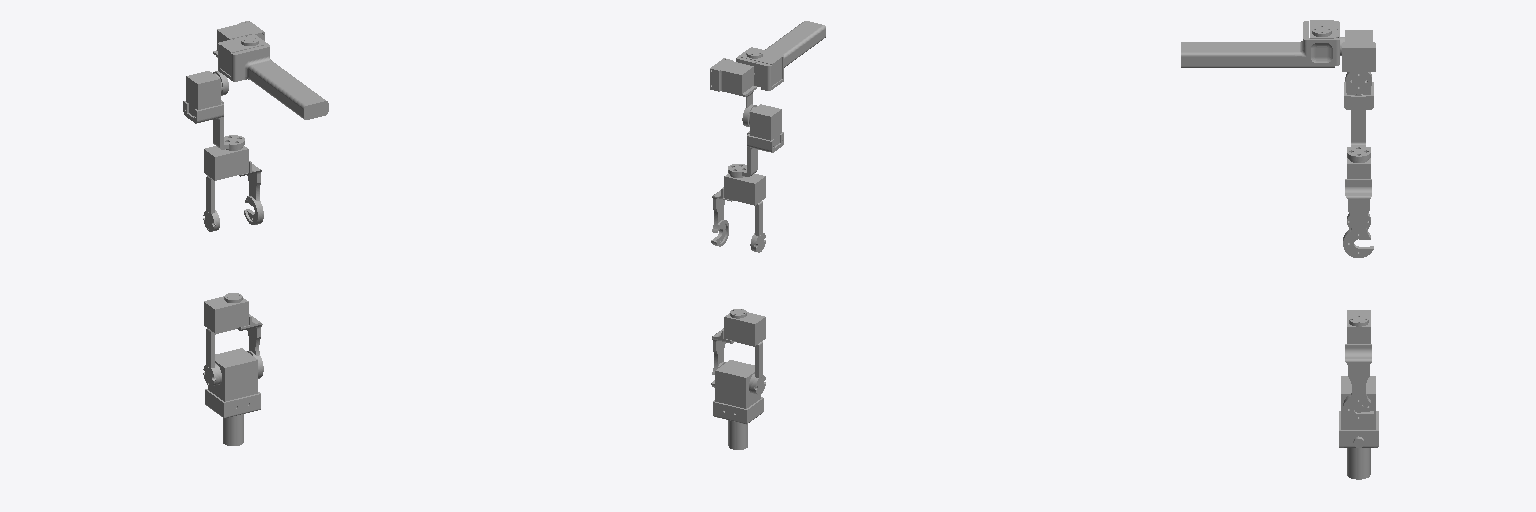
robot.urdf — FlexivRizonURDF_V2:
<?xml version="1.0" ?>
<robot xmlns:xacro="http://www.ros.org/wiki/xacro" name="FlexivRizonURDF_V2">
  <material name="silver">
    <color rgba="0.700 0.700 0.700 1.000"/>
  </material>
  <transmission name="base_to_one_tran">
    <type>transmission_interface/SimpleTransmission</type>
    <joint name="base_to_one">
      <hardwareInterface>hardware_interface/EffortJointInterface</hardwareInterface>
    </joint>
    <actuator name="base_to_one_actr">
      <hardwareInterface>hardware_interface/EffortJointInterface</hardwareInterface>
      <mechanicalReduction>1</mechanicalReduction>
    </actuator>
  </transmission>
  <transmission name="one_to_two_tran">
    <type>transmission_interface/SimpleTransmission</type>
    <joint name="one_to_two">
      <hardwareInterface>hardware_interface/EffortJointInterface</hardwareInterface>
    </joint>
    <actuator name="one_to_two_actr">
      <hardwareInterface>hardware_interface/EffortJointInterface</hardwareInterface>
      <mechanicalReduction>1</mechanicalReduction>
    </actuator>
  </transmission>
  <transmission name="two_to_three_tran">
    <type>transmission_interface/SimpleTransmission</type>
    <joint name="two_to_three">
      <hardwareInterface>hardware_interface/EffortJointInterface</hardwareInterface>
    </joint>
    <actuator name="two_to_three_actr">
      <hardwareInterface>hardware_interface/EffortJointInterface</hardwareInterface>
      <mechanicalReduction>1</mechanicalReduction>
    </actuator>
  </transmission>
  <transmission name="three_to_four_tran">
    <type>transmission_interface/SimpleTransmission</type>
    <joint name="three_to_four">
      <hardwareInterface>hardware_interface/EffortJointInterface</hardwareInterface>
    </joint>
    <actuator name="three_to_four_actr">
      <hardwareInterface>hardware_interface/EffortJointInterface</hardwareInterface>
      <mechanicalReduction>1</mechanicalReduction>
    </actuator>
  </transmission>
  <transmission name="four_to_five_tran">
    <type>transmission_interface/SimpleTransmission</type>
    <joint name="four_to_five">
      <hardwareInterface>hardware_interface/EffortJointInterface</hardwareInterface>
    </joint>
    <actuator name="four_to_five_actr">
      <hardwareInterface>hardware_interface/EffortJointInterface</hardwareInterface>
      <mechanicalReduction>1</mechanicalReduction>
    </actuator>
  </transmission>
  <transmission name="five_to_six_tran">
    <type>transmission_interface/SimpleTransmission</type>
    <joint name="five_to_six">
      <hardwareInterface>hardware_interface/EffortJointInterface</hardwareInterface>
    </joint>
    <actuator name="five_to_six_actr">
      <hardwareInterface>hardware_interface/EffortJointInterface</hardwareInterface>
      <mechanicalReduction>1</mechanicalReduction>
    </actuator>
  </transmission>
  <transmission name="six_to_seven_tran">
    <type>transmission_interface/SimpleTransmission</type>
    <joint name="six_to_seven">
      <hardwareInterface>hardware_interface/EffortJointInterface</hardwareInterface>
    </joint>
    <actuator name="six_to_seven_actr">
      <hardwareInterface>hardware_interface/EffortJointInterface</hardwareInterface>
      <mechanicalReduction>1</mechanicalReduction>
    </actuator>
  </transmission>
  <gazebo>
    <plugin name="control" filename="libgazebo_ros_control.so"/>
  </gazebo>
  <gazebo reference="base_link">
    <material>Gazebo/Silver</material>
    <mu1>0.2</mu1>
    <mu2>0.2</mu2>
    <selfCollide>true</selfCollide>
    <gravity>true</gravity>
  </gazebo>
  <gazebo reference="link_1_1">
    <material>Gazebo/Silver</material>
    <mu1>0.2</mu1>
    <mu2>0.2</mu2>
    <selfCollide>true</selfCollide>
  </gazebo>
  <gazebo reference="link_2_1">
    <material>Gazebo/Silver</material>
    <mu1>0.2</mu1>
    <mu2>0.2</mu2>
    <selfCollide>true</selfCollide>
  </gazebo>
  <gazebo reference="link_3_1">
    <material>Gazebo/Silver</material>
    <mu1>0.2</mu1>
    <mu2>0.2</mu2>
    <selfCollide>true</selfCollide>
  </gazebo>
  <gazebo reference="link_4_1">
    <material>Gazebo/Silver</material>
    <mu1>0.2</mu1>
    <mu2>0.2</mu2>
    <selfCollide>true</selfCollide>
  </gazebo>
  <gazebo reference="link_5_1">
    <material>Gazebo/Silver</material>
    <mu1>0.2</mu1>
    <mu2>0.2</mu2>
    <selfCollide>true</selfCollide>
  </gazebo>
  <gazebo reference="link_6_1">
    <material>Gazebo/Silver</material>
    <mu1>0.2</mu1>
    <mu2>0.2</mu2>
    <selfCollide>true</selfCollide>
  </gazebo>
  <gazebo reference="link_7_1">
    <material>Gazebo/Silver</material>
    <mu1>0.2</mu1>
    <mu2>0.2</mu2>
    <selfCollide>true</selfCollide>
  </gazebo>
  <link name="base_link">
    <inertial>
      <origin xyz="0.013134132320096555 6.700780703133406e-05 0.01234859531832946" rpy="0 0 0"/>
      <mass value="0.215"/>
      <inertia ixx="0.000743" iyy="0.002621" izz="0.003049" ixy="2e-06" iyz="-0.0" ixz="-0.00029"/>
    </inertial>
    <visual>
      <origin xyz="0 0 0" rpy="0 0 0"/>
      <geometry>
        <mesh filename="meshes/base_link.stl" scale="0.001 0.001 0.001"/>
      </geometry>
      <material name="silver"/>
    </visual>
    <collision>
      <origin xyz="0 0 0" rpy="0 0 0"/>
      <geometry>
        <mesh filename="meshes/base_link.stl" scale="0.001 0.001 0.001"/>
      </geometry>
    </collision>
  </link>
  <link name="link_1_1">
    <inertial>
      <origin xyz="0.0001383692693600197 -3.348312306670348e-11 0.05053775369995959" rpy="0 0 0"/>
      <mass value="0.0763"/>
      <inertia ixx="0.000202" iyy="0.000217" izz="7.9e-05" ixy="-0.0" iyz="-0.0" ixz="0.0"/>
    </inertial>
    <visual>
      <origin xyz="-0.047 -0.00025 -0.037" rpy="0 0 0"/>
      <geometry>
        <mesh filename="meshes/link_1.stl" scale="0.001 0.001 0.001"/>
      </geometry>
      <material name="silver"/>
    </visual>
    <collision>
      <origin xyz="-0.047 -0.00025 -0.037" rpy="0 0 0"/>
      <geometry>
        <mesh filename="meshes/link_1.stl" scale="0.001 0.001 0.001"/>
      </geometry>
    </collision>
  </link>
  <link name="link_2_1">
    <inertial>
      <origin xyz="0.015663957402089205 -0.00015108771925596967 0.044037697216567875" rpy="0 0 0"/>
      <mass value="0.03249"/>
      <inertia ixx="9.5e-05" iyy="0.000132" izz="5e-05" ixy="1e-06" iyz="-1e-06" ixz="1.3e-05"/>
    </inertial>
    <visual>
      <origin xyz="-0.028 -0.00025 -0.10675" rpy="0 0 0"/>
      <geometry>
        <mesh filename="meshes/link_2.stl" scale="0.001 0.001 0.001"/>
      </geometry>
      <material name="silver"/>
    </visual>
    <collision>
      <origin xyz="-0.028 -0.00025 -0.10675" rpy="0 0 0"/>
      <geometry>
        <mesh filename="meshes/link_2.stl" scale="0.001 0.001 0.001"/>
      </geometry>
    </collision>
  </link>
  <link name="link_3_1">
    <inertial>
      <origin xyz="0.00013979419032984775 -1.8930169931596907e-16 0.05908846909303328" rpy="0 0 0"/>
      <mass value="0.075525"/>
      <inertia ixx="0.000228" iyy="0.000244" izz="7.8e-05" ixy="-0.0" iyz="0.0" ixz="0.0"/>
    </inertial>
    <visual>
      <origin xyz="-0.0471 -0.00025 -0.1775" rpy="0 0 0"/>
      <geometry>
        <mesh filename="meshes/link_3.stl" scale="0.001 0.001 0.001"/>
      </geometry>
      <material name="silver"/>
    </visual>
    <collision>
      <origin xyz="-0.0471 -0.00025 -0.1775" rpy="0 0 0"/>
      <geometry>
        <mesh filename="meshes/link_3.stl" scale="0.001 0.001 0.001"/>
      </geometry>
    </collision>
  </link>
  <link name="link_4_1">
    <inertial>
      <origin xyz="0.015176039441940611 -0.0001558705429334102 0.042697674502670646" rpy="0 0 0"/>
      <mass value="0.030735"/>
      <inertia ixx="8.8e-05" iyy="0.000123" izz="4.7e-05" ixy="1e-06" iyz="-1e-06" ixz="1.2e-05"/>
    </inertial>
    <visual>
      <origin xyz="-0.0281 -0.00025 -0.25625" rpy="0 0 0"/>
      <geometry>
        <mesh filename="meshes/link_4.stl" scale="0.001 0.001 0.001"/>
      </geometry>
      <material name="silver"/>
    </visual>
    <collision>
      <origin xyz="-0.0281 -0.00025 -0.25625" rpy="0 0 0"/>
      <geometry>
        <mesh filename="meshes/link_4.stl" scale="0.001 0.001 0.001"/>
      </geometry>
    </collision>
  </link>
  <link name="link_5_1">
    <inertial>
      <origin xyz="-0.027005951135623 6.174531372304948e-17 0.045890393955621944" rpy="0 0 0"/>
      <mass value="0.02995185"/>
      <inertia ixx="6.3e-05" iyy="7.5e-05" izz="2.6e-05" ixy="0.0" iyz="-0.0" ixz="1.9e-05"/>
    </inertial>
    <visual>
      <origin xyz="-0.0472 -0.00025 -0.325" rpy="0 0 0"/>
      <geometry>
        <mesh filename="meshes/link_5.stl" scale="0.001 0.001 0.001"/>
      </geometry>
      <material name="silver"/>
    </visual>
    <collision>
      <origin xyz="-0.0472 -0.00025 -0.325" rpy="0 0 0"/>
      <geometry>
        <mesh filename="meshes/link_5.stl" scale="0.001 0.001 0.001"/>
      </geometry>
    </collision>
  </link>
  <link name="link_6_1">
    <inertial>
      <origin xyz="0.020226851538601584 -0.00031075543541736776 0.03154378049515688" rpy="0 0 0"/>
      <mass value="0.02685"/>
      <inertia ixx="3.4e-05" iyy="4.7e-05" izz="3e-05" ixy="-0.0" iyz="0.0" ixz="-1.2e-05"/>
    </inertial>
    <visual>
      <origin xyz="-0.0312 -0.00025 -0.387" rpy="0 0 0"/>
      <geometry>
        <mesh filename="meshes/link_6.stl" scale="0.001 0.001 0.001"/>
      </geometry>
      <material name="silver"/>
    </visual>
    <collision>
      <origin xyz="-0.0312 -0.00025 -0.387" rpy="0 0 0"/>
      <geometry>
        <mesh filename="meshes/link_6.stl" scale="0.001 0.001 0.001"/>
      </geometry>
    </collision>
  </link>
  <link name="link_7_1">
    <inertial>
      <origin xyz="-0.0023059430855942725 -0.05156602968925009 -0.004412499614625309" rpy="0 0 0"/>
      <mass value="0.08011907"/>
      <inertia ixx="0.000777" iyy="6.7e-05" izz="0.000798" ixy="5.2e-05" iyz="-5.4e-05" ixz="5e-06"/>
    </inertial>
    <visual>
      <origin xyz="-0.0462 0.01425 -0.4235" rpy="0 0 0"/>
      <geometry>
        <mesh filename="meshes/link_7.stl" scale="0.001 0.001 0.001"/>
      </geometry>
      <material name="silver"/>
    </visual>
    <collision>
      <origin xyz="-0.0462 0.01425 -0.4235" rpy="0 0 0"/>
      <geometry>
        <mesh filename="meshes/link_7.stl" scale="0.001 0.001 0.001"/>
      </geometry>
    </collision>
  </link>
  <joint name="base_to_one" type="revolute">
    <origin xyz="0.047 0.00025 0.037" rpy="0 0 0"/>
    <parent link="base_link"/>
    <child link="link_1_1"/>
    <axis xyz="0.0 0.0 1.0"/>
    <limit lower="-2.967" upper="2.967" effort="100.0" velocity="2.5"/>
  </joint>
  <joint name="one_to_two" type="revolute">
    <origin xyz="-0.019 0.0 0.06975" rpy="0 0 0"/>
    <parent link="link_1_1"/>
    <child link="link_2_1"/>
    <axis xyz="-1.0 0.0 0.0"/>
    <limit lower="-2.967" upper="2.967" effort="100.0" velocity="2.5"/>
  </joint>
  <joint name="two_to_three" type="revolute">
    <origin xyz="0.0191 0.0 0.07075" rpy="0 0 0"/>
    <parent link="link_2_1"/>
    <child link="link_3_1"/>
    <axis xyz="0.0 0.0 1.0"/>
    <limit lower="-2.967" upper="2.967" effort="100.0" velocity="2.5"/>
  </joint>
  <joint name="three_to_four" type="revolute">
    <origin xyz="-0.019 0.0 0.07875" rpy="0 0 0"/>
    <parent link="link_3_1"/>
    <child link="link_4_1"/>
    <axis xyz="-1.0 0.0 0.0"/>
    <limit lower="-2.967" upper="2.967" effort="60.0" velocity="2.5"/>
  </joint>
  <joint name="four_to_five" type="revolute">
    <origin xyz="0.0191 0.0 0.06875" rpy="0 0 0"/>
    <parent link="link_4_1"/>
    <child link="link_5_1"/>
    <axis xyz="0.0 0.0 1.0"/>
    <limit lower="-2.967" upper="2.967" effort="60.0" velocity="3.0"/>
  </joint>
  <joint name="five_to_six" type="revolute">
    <origin xyz="-0.016 0.0 0.062" rpy="0 0 0"/>
    <parent link="link_5_1"/>
    <child link="link_6_1"/>
    <axis xyz="1.0 0.0 0.0"/>
    <limit lower="-2.967" upper="2.967" effort="30.0" velocity="3.0"/>
  </joint>
  <joint name="six_to_seven" type="revolute">
    <origin xyz="0.015 -0.0145 0.0365" rpy="0 0 0"/>
    <parent link="link_6_1"/>
    <child link="link_7_1"/>
    <axis xyz="0.0 -1.0 0.0"/>
    <limit lower="-3.1415" upper="3.1415" effort="30.0" velocity="3.0"/>
  </joint>
</robot>

--- Render facts (derived) ---
The picture shows the robot from 3 angles, left to right: view 1: azimuth 30°, elevation 25°; view 2: azimuth 150°, elevation 25°; view 3: azimuth 270°, elevation 25°; orthographic projection.
Model FlexivRizonURDF_V2 with 8 links and 7 joints (7 revolute), rooted at base_link, posed every joint at zero.
Visible links, largest first — view 1: link_7_1, link_1_1, link_2_1, link_4_1, link_5_1, link_6_1; view 2: link_1_1, link_7_1, link_4_1, link_2_1, link_5_1, link_6_1; view 3: link_7_1, link_2_1, link_1_1, link_4_1, link_6_1, link_5_1.
Boxes of the visible links, bbox=[...] form: link_7_1: bbox=[218, 34, 328, 119]; link_1_1: bbox=[205, 348, 260, 445]; link_2_1: bbox=[203, 293, 263, 386]; link_4_1: bbox=[203, 146, 263, 231]; link_5_1: bbox=[183, 71, 244, 149]; link_6_1: bbox=[213, 21, 264, 95]; link_1_1: bbox=[713, 360, 763, 449]; link_7_1: bbox=[736, 21, 825, 90]; link_4_1: bbox=[711, 173, 765, 252]; link_2_1: bbox=[711, 309, 765, 394]; link_5_1: bbox=[728, 104, 783, 176]; link_6_1: bbox=[710, 58, 756, 126]; link_7_1: bbox=[1181, 20, 1340, 67]; link_2_1: bbox=[1343, 310, 1373, 423]; link_1_1: bbox=[1339, 376, 1378, 479]; link_4_1: bbox=[1343, 147, 1373, 257]; link_6_1: bbox=[1341, 30, 1375, 93]; link_5_1: bbox=[1344, 82, 1373, 160].
Size in the robot's own frame: 0.0707 by 0.1618 by 0.4385 metres.
Meshes: 8 distinct files referenced, 7 mesh visuals loaded (7 binary STL); not drawn: 1 (reference not matched to a file when rendering).
